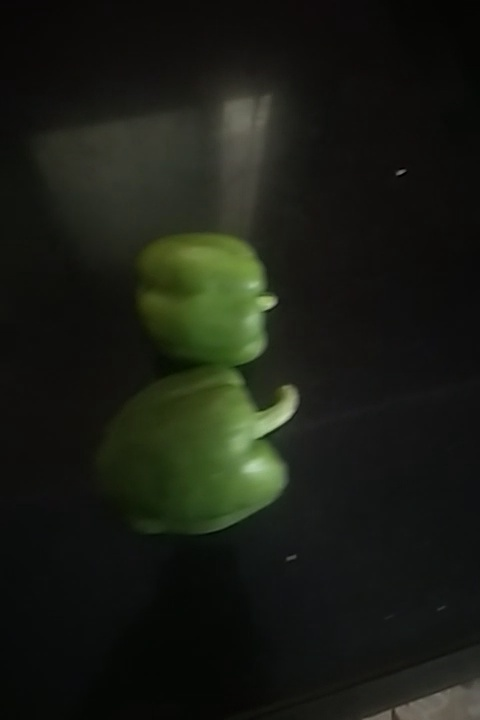capsicum: (98, 371, 301, 555), (130, 234, 286, 371)
